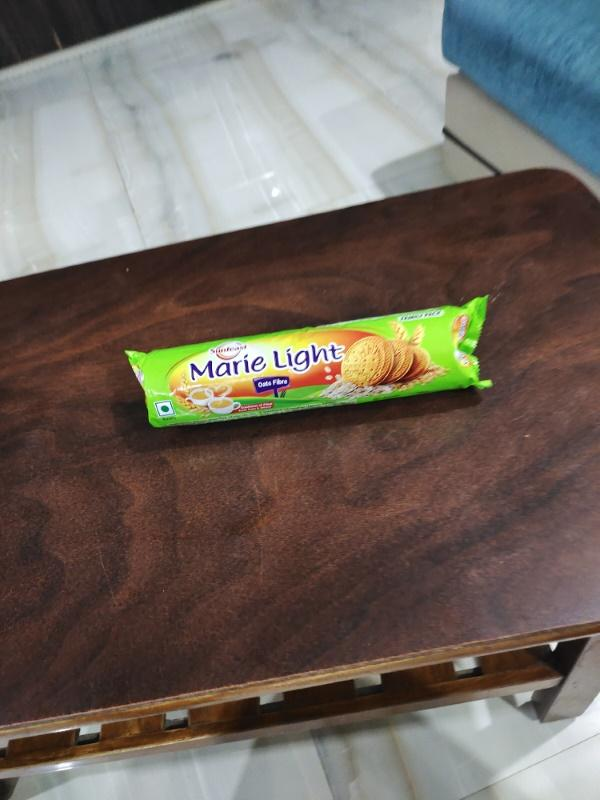MarieLight: (106, 300, 530, 431)
